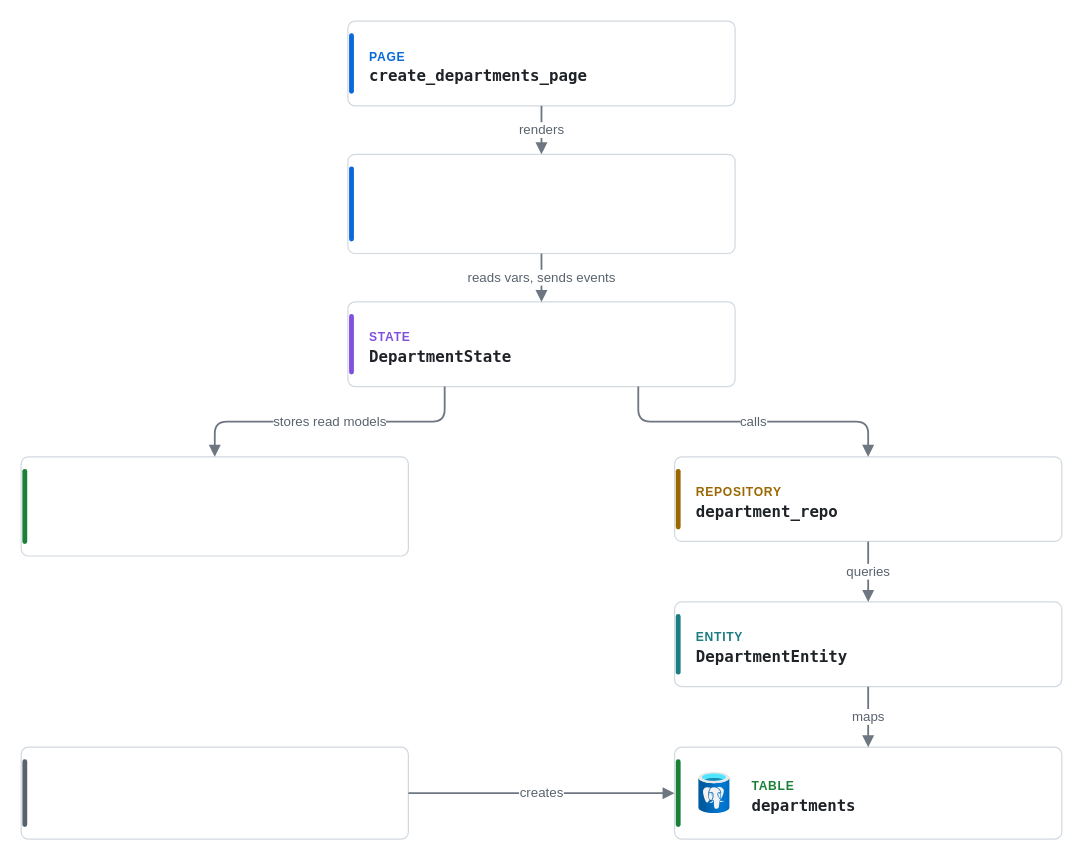
Image size: 1083x860. Some labels were removed from this diagram. The centre of each missing label's shape, as x and y in pixels:
"ALEMBIC MIGRATION de45fa67bc89 2026_10_18_departments.py" goes at point (214, 792).
"COMPONENTS departments_table departments_toolbar" goes at point (541, 203).
"MODELS Department DepartmentCreate" goes at point (214, 506).
